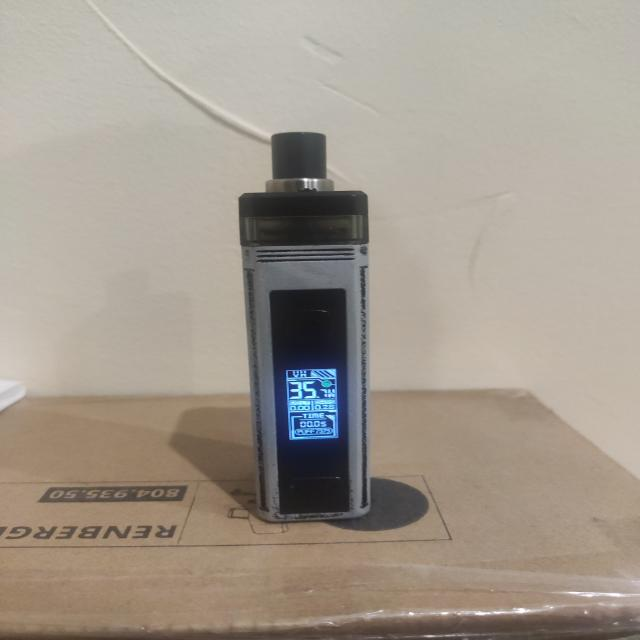cigaret: (221, 121, 376, 528)
